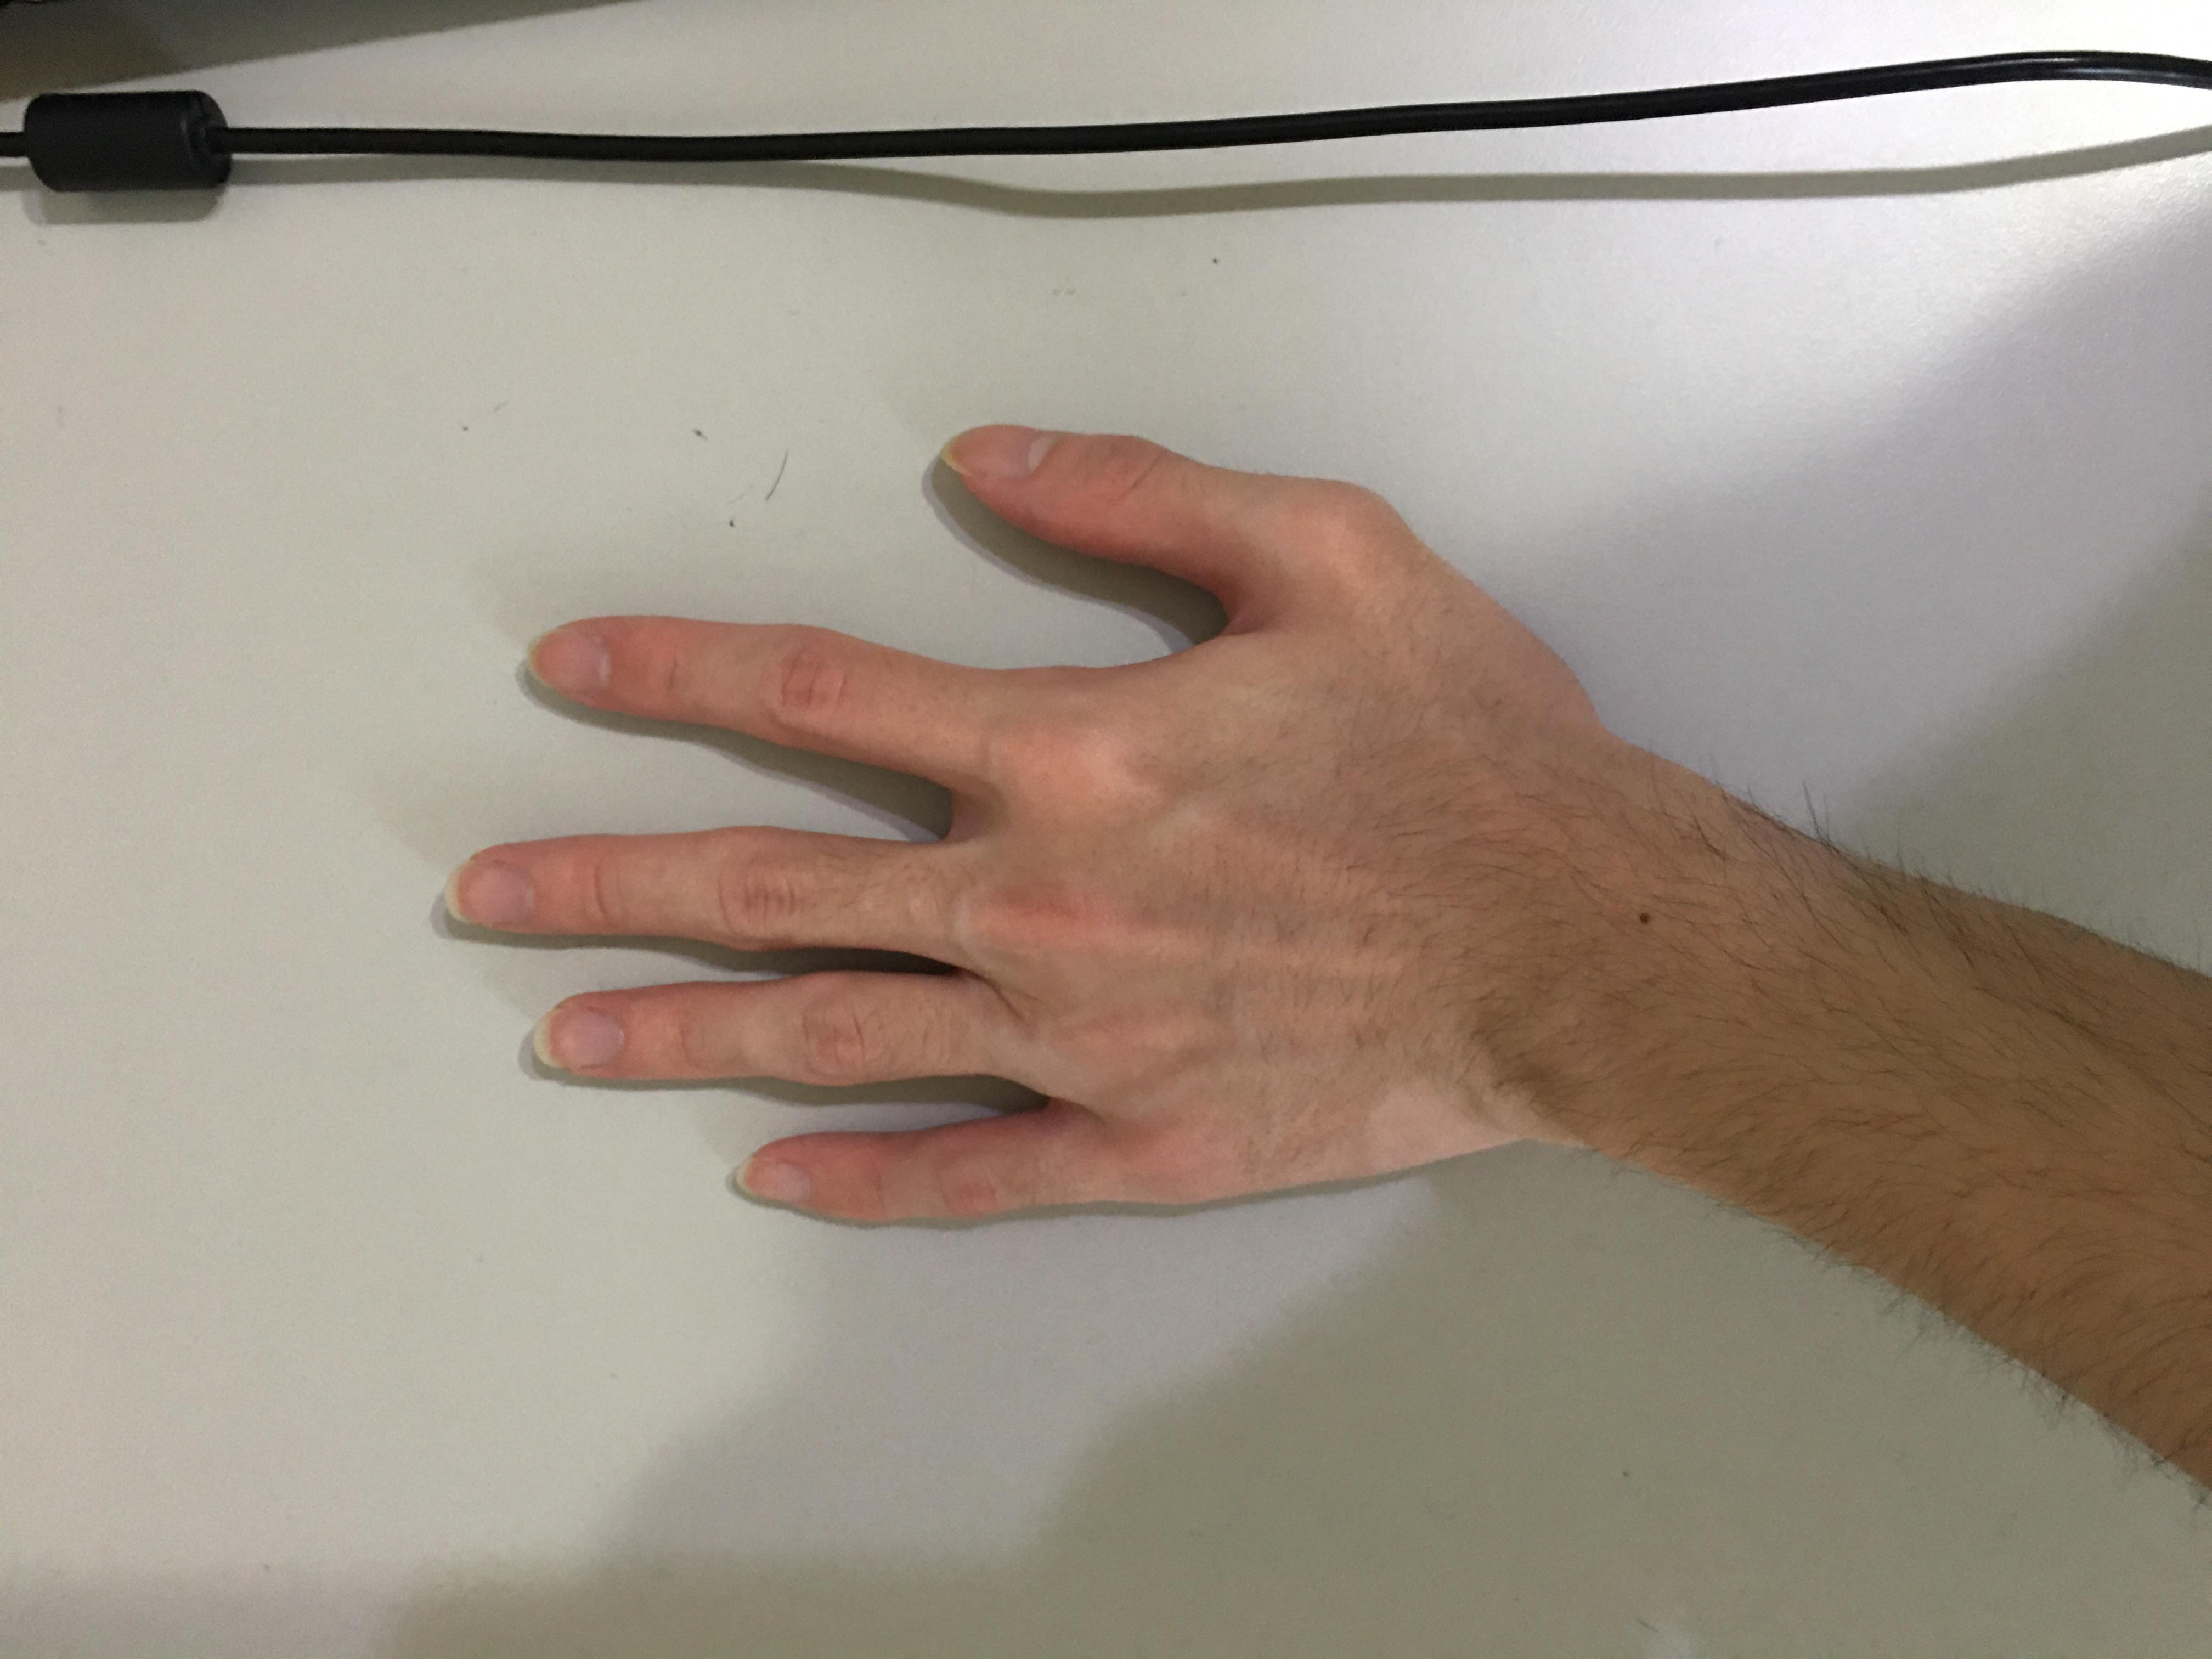hand: (557, 317, 1660, 1190)
